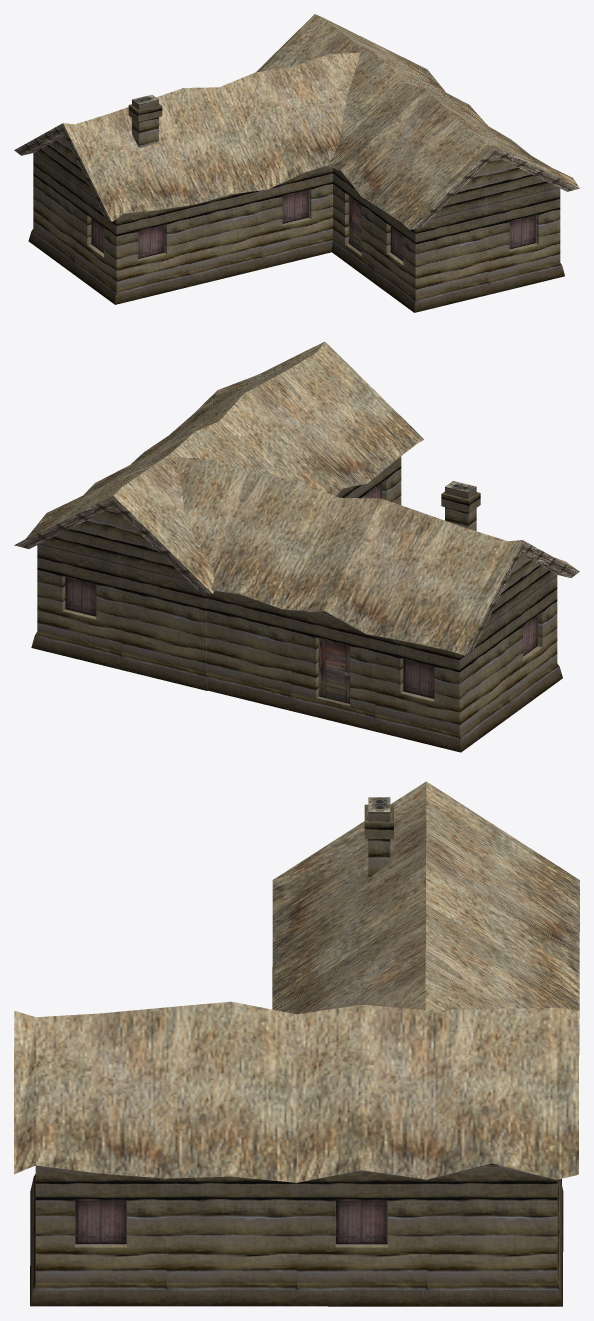
Rendered from s44_b_house_3_4.dae.
3 renders of one model, top to bottom at view 1: azimuth 30°, elevation 25°; view 2: azimuth 150°, elevation 25°; view 3: azimuth 270°, elevation 25°, orthographic. The views are drawn at different scales.
Visible parts, largest first — view 1: Untitled; view 2: Untitled; view 3: Untitled.
Boxes of the visible parts, x1,y1,x2,y2 form: Untitled: (14,14,579,312); Untitled: (14,341,579,752); Untitled: (14,781,579,1306).
Size of the model in its own units: 128 by 104 by 54.08.
1 material, 1 textured.
